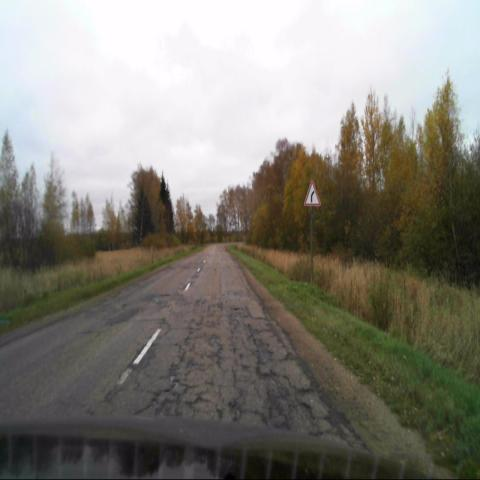1_11: (303, 180, 321, 207)
